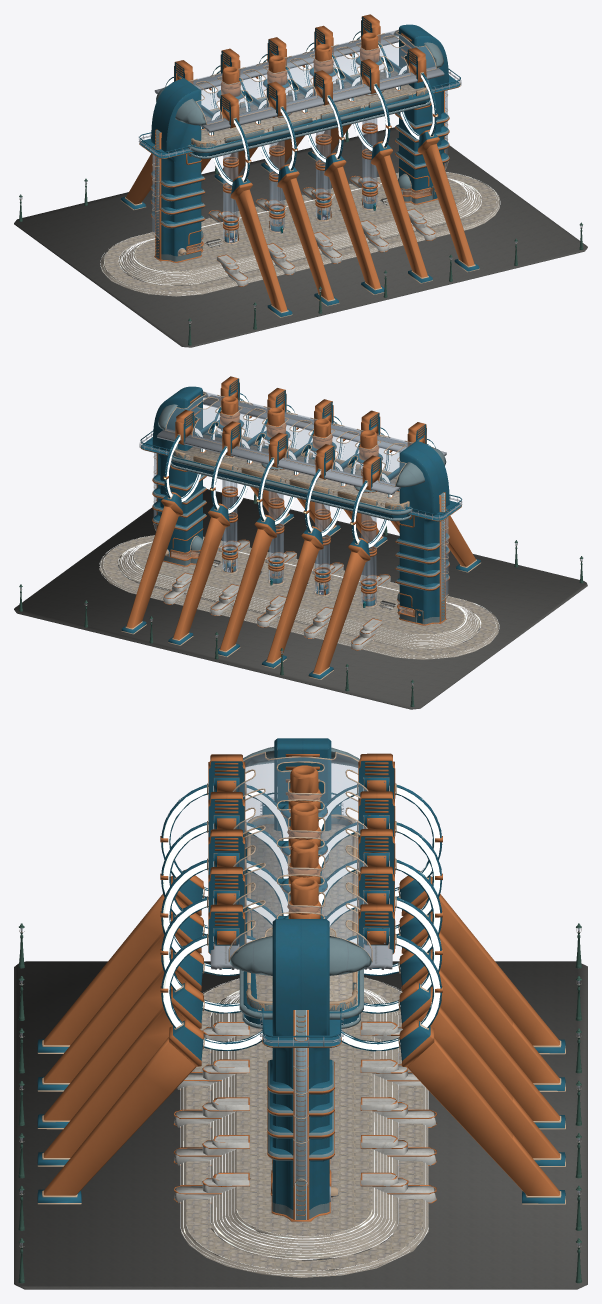
File: cargo_retro_station.glb
3 views of the same model, one above another, from view 1: azimuth 30°, elevation 25°; view 2: azimuth 150°, elevation 25°; view 3: azimuth 270°, elevation 25° (orthographic). The views are drawn at different scales.
Visible parts, largest first — view 1: KB3D_ATP_BldgLgTrainStation_A_BaseA, KB3D_ATP_BldgLgTrainStation_A_Building, KB3D_ATP_BldgLgTrainStation_A_TrainTracksB, KB3D_ATP_BldgLgTrainStation_A_BaseB, KB3D_ATP_BldgLgTrainStation_A_Building_transparent, KB3D_ATP_BldgLgTrainStation_A_TrainTracksA; view 2: KB3D_ATP_BldgLgTrainStation_A_BaseA, KB3D_ATP_BldgLgTrainStation_A_Building, KB3D_ATP_BldgLgTrainStation_A_TrainTracksA, KB3D_ATP_BldgLgTrainStation_A_BaseB, KB3D_ATP_BldgLgTrainStation_A_Building_transparent, KB3D_ATP_BldgLgTrainStation_A_TrainTracksB; view 3: KB3D_ATP_BldgLgTrainStation_A_BaseA, KB3D_ATP_BldgLgTrainStation_A_BaseB, KB3D_ATP_BldgLgTrainStation_A_TrainTracksB, KB3D_ATP_BldgLgTrainStation_A_TrainTracksA, KB3D_ATP_BldgLgTrainStation_A_Building, KB3D_ATP_BldgLgTrainStation_A_Building_transparent.
Boxes of the visible parts, bbox=[...] form: KB3D_ATP_BldgLgTrainStation_A_BaseA: bbox=[14, 127, 587, 347]; KB3D_ATP_BldgLgTrainStation_A_Building: bbox=[138, 24, 461, 262]; KB3D_ATP_BldgLgTrainStation_A_TrainTracksB: bbox=[200, 47, 479, 317]; KB3D_ATP_BldgLgTrainStation_A_BaseB: bbox=[100, 172, 500, 296]; KB3D_ATP_BldgLgTrainStation_A_Building_transparent: bbox=[152, 30, 447, 252]; KB3D_ATP_BldgLgTrainStation_A_TrainTracksA: bbox=[120, 14, 398, 210]; KB3D_ATP_BldgLgTrainStation_A_BaseA: bbox=[14, 489, 587, 709]; KB3D_ATP_BldgLgTrainStation_A_Building: bbox=[139, 386, 462, 625]; KB3D_ATP_BldgLgTrainStation_A_TrainTracksA: bbox=[121, 410, 400, 679]; KB3D_ATP_BldgLgTrainStation_A_BaseB: bbox=[99, 535, 499, 659]; KB3D_ATP_BldgLgTrainStation_A_Building_transparent: bbox=[154, 392, 448, 615]; KB3D_ATP_BldgLgTrainStation_A_TrainTracksB: bbox=[203, 376, 480, 572]; KB3D_ATP_BldgLgTrainStation_A_BaseA: bbox=[14, 961, 587, 1289]; KB3D_ATP_BldgLgTrainStation_A_BaseB: bbox=[173, 977, 437, 1277]; KB3D_ATP_BldgLgTrainStation_A_TrainTracksB: bbox=[37, 754, 289, 1204]; KB3D_ATP_BldgLgTrainStation_A_TrainTracksA: bbox=[318, 753, 565, 1204]; KB3D_ATP_BldgLgTrainStation_A_Building: bbox=[228, 738, 372, 1221]; KB3D_ATP_BldgLgTrainStation_A_Building_transparent: bbox=[229, 752, 371, 1184].
Bounding box in the file's own units: 33.93 × 14.54 × 25.17.
Materials: 32 (32 with a texture image).
